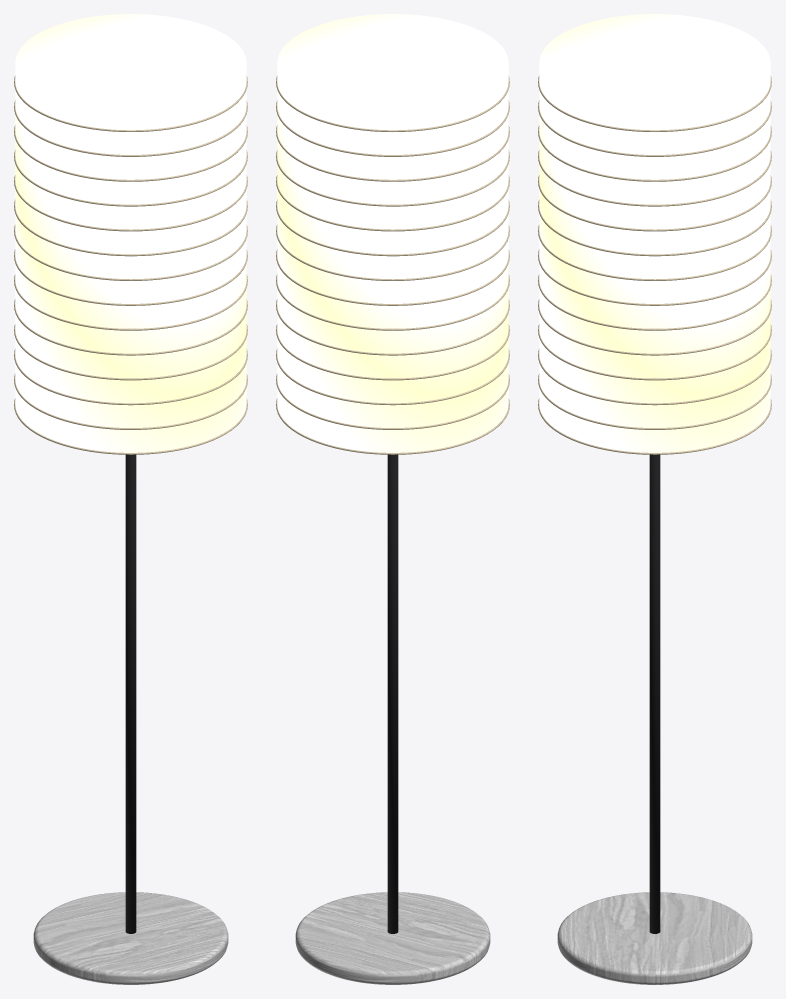
File: floor-lamp.gltf
3 views of the same model, side by side, from view 1: azimuth 30°, elevation 25°; view 2: azimuth 150°, elevation 25°; view 3: azimuth 270°, elevation 25° (orthographic).
Parts seen in each view (by area): view 1: floor-lamp; view 2: floor-lamp; view 3: floor-lamp.
Part boxes in pixels (<box>): floor-lamp: <box>14,14,247,984</box>; floor-lamp: <box>276,14,509,984</box>; floor-lamp: <box>538,14,771,984</box>.
Bounding box in the file's own units: 0.3843 × 1.6 × 0.3843.
4 materials, 1 textured.
